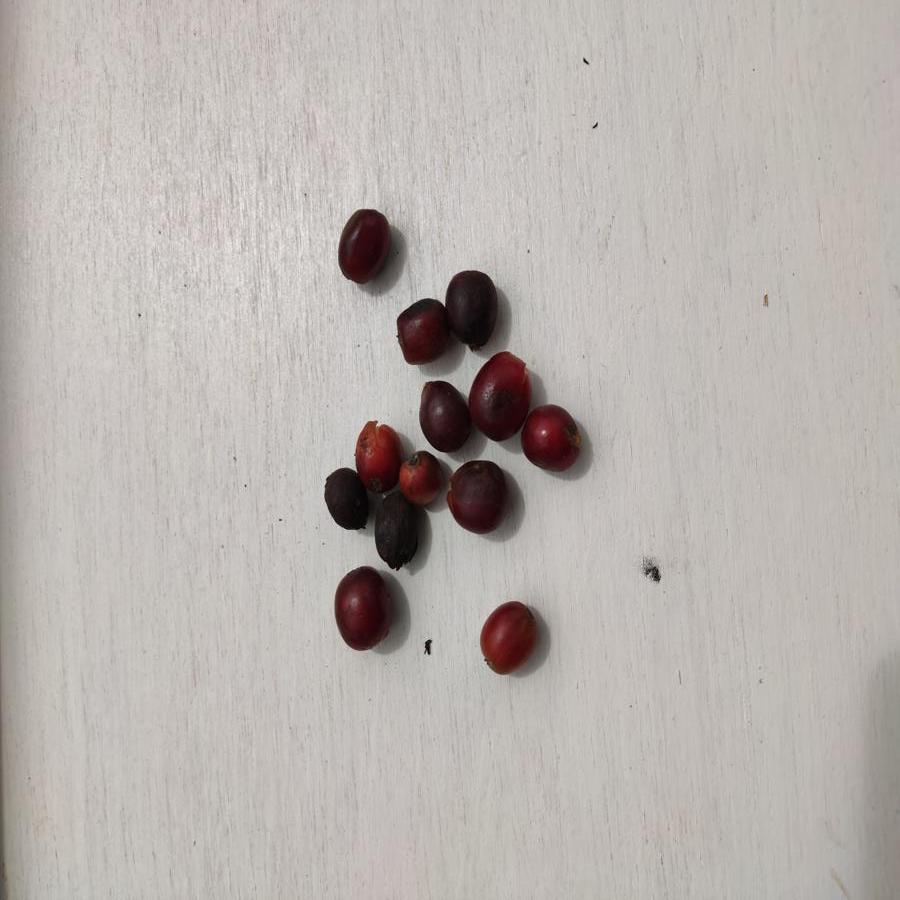Maduro: (480, 602, 540, 675), (524, 402, 580, 473), (356, 422, 401, 490), (399, 456, 434, 503)
Sobremaduro: (470, 351, 531, 443), (334, 565, 394, 654), (445, 458, 509, 535), (445, 266, 499, 346), (415, 378, 473, 451), (338, 207, 390, 284), (395, 298, 450, 366), (374, 499, 422, 569), (325, 468, 368, 536)
